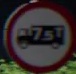Heavy Vehicles: (7, 4, 69, 63)
